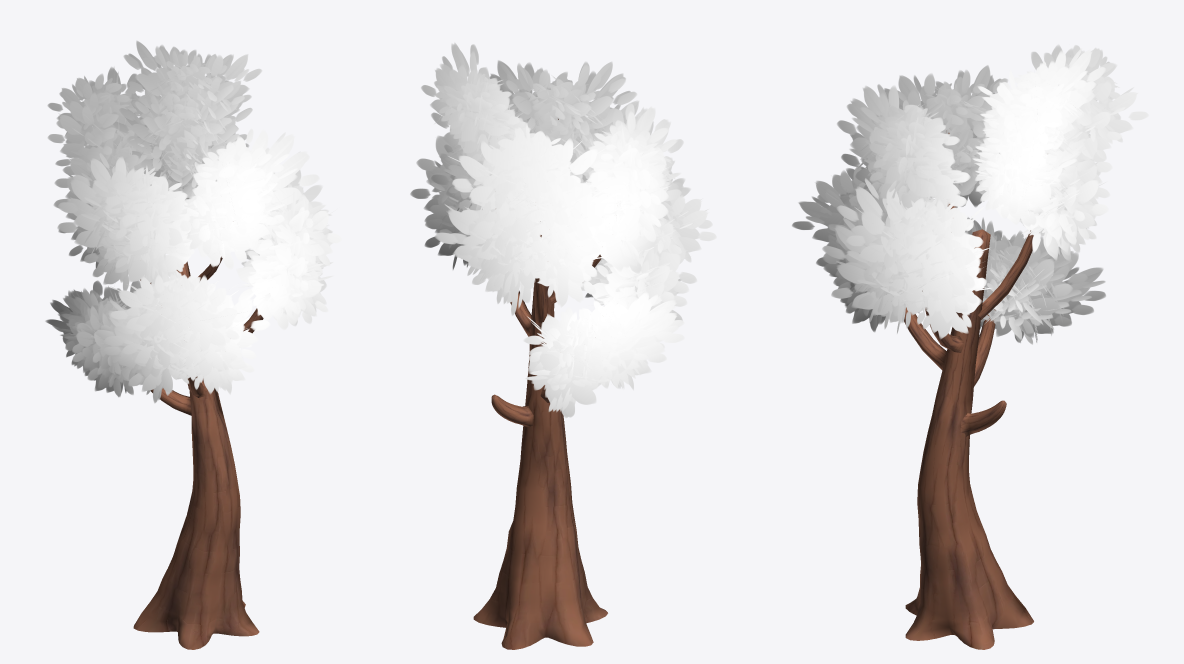
File: tree-5.glb
3 renders of one model, left to right at view 1: azimuth 30°, elevation 25°; view 2: azimuth 150°, elevation 25°; view 3: azimuth 270°, elevation 25°, orthographic. The views are drawn at different scales.
Visible parts, largest first — view 1: tree_027; view 2: tree_027; view 3: tree_027.
Part boxes in pixels (<box>): tree_027: <box>45,40,341,649</box>; tree_027: <box>410,42,716,649</box>; tree_027: <box>792,44,1148,649</box>.
Bounding box in the file's own units: 3.67 × 7.01 × 4.22.
Materials: 2 (2 with a texture image).
